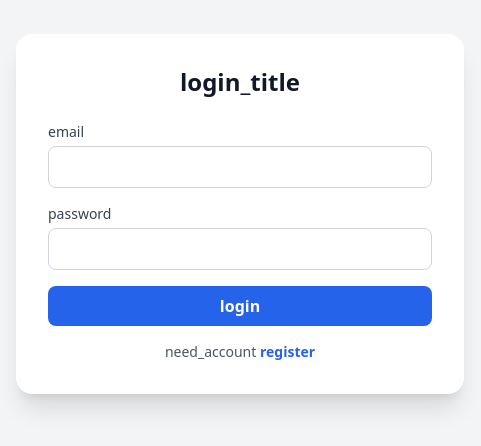
it: Login UI › renders auth form and handles API failure
Type "qa@example.com" into the field labelled "email".
click(240, 167); type("qa@example.com")  # box [48,146,432,188]
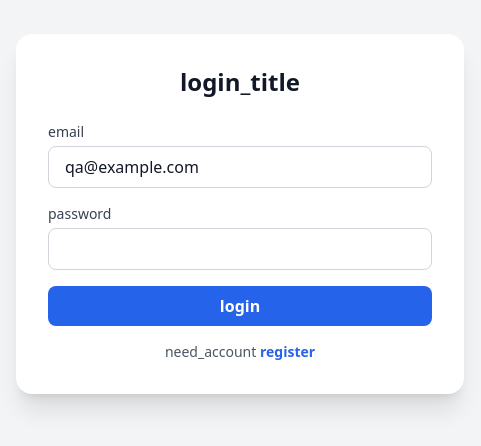
Type "wrong" into the password field labelled "password".
click(240, 249); type("wrong")  # box [48,228,432,270]
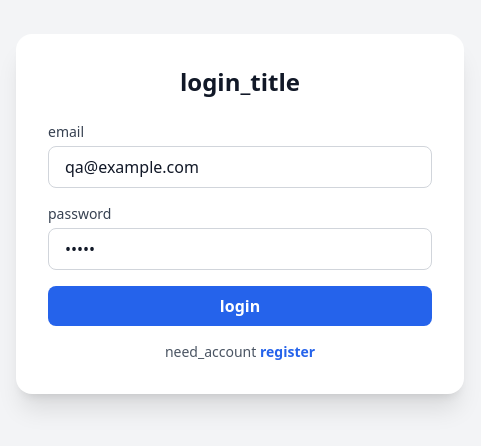
Click the button "login".
click(240, 306)  # box [48,286,432,326]
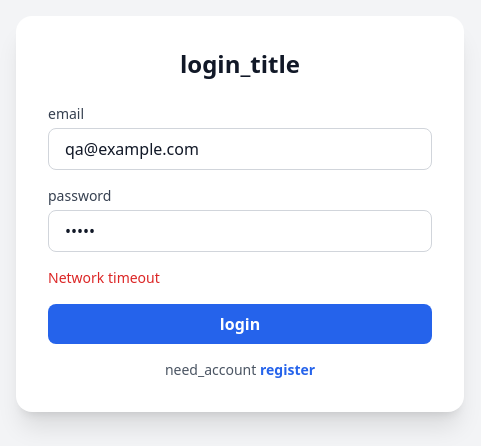
Now the text "Network timeout" is shown, box [48,268,160,287]
